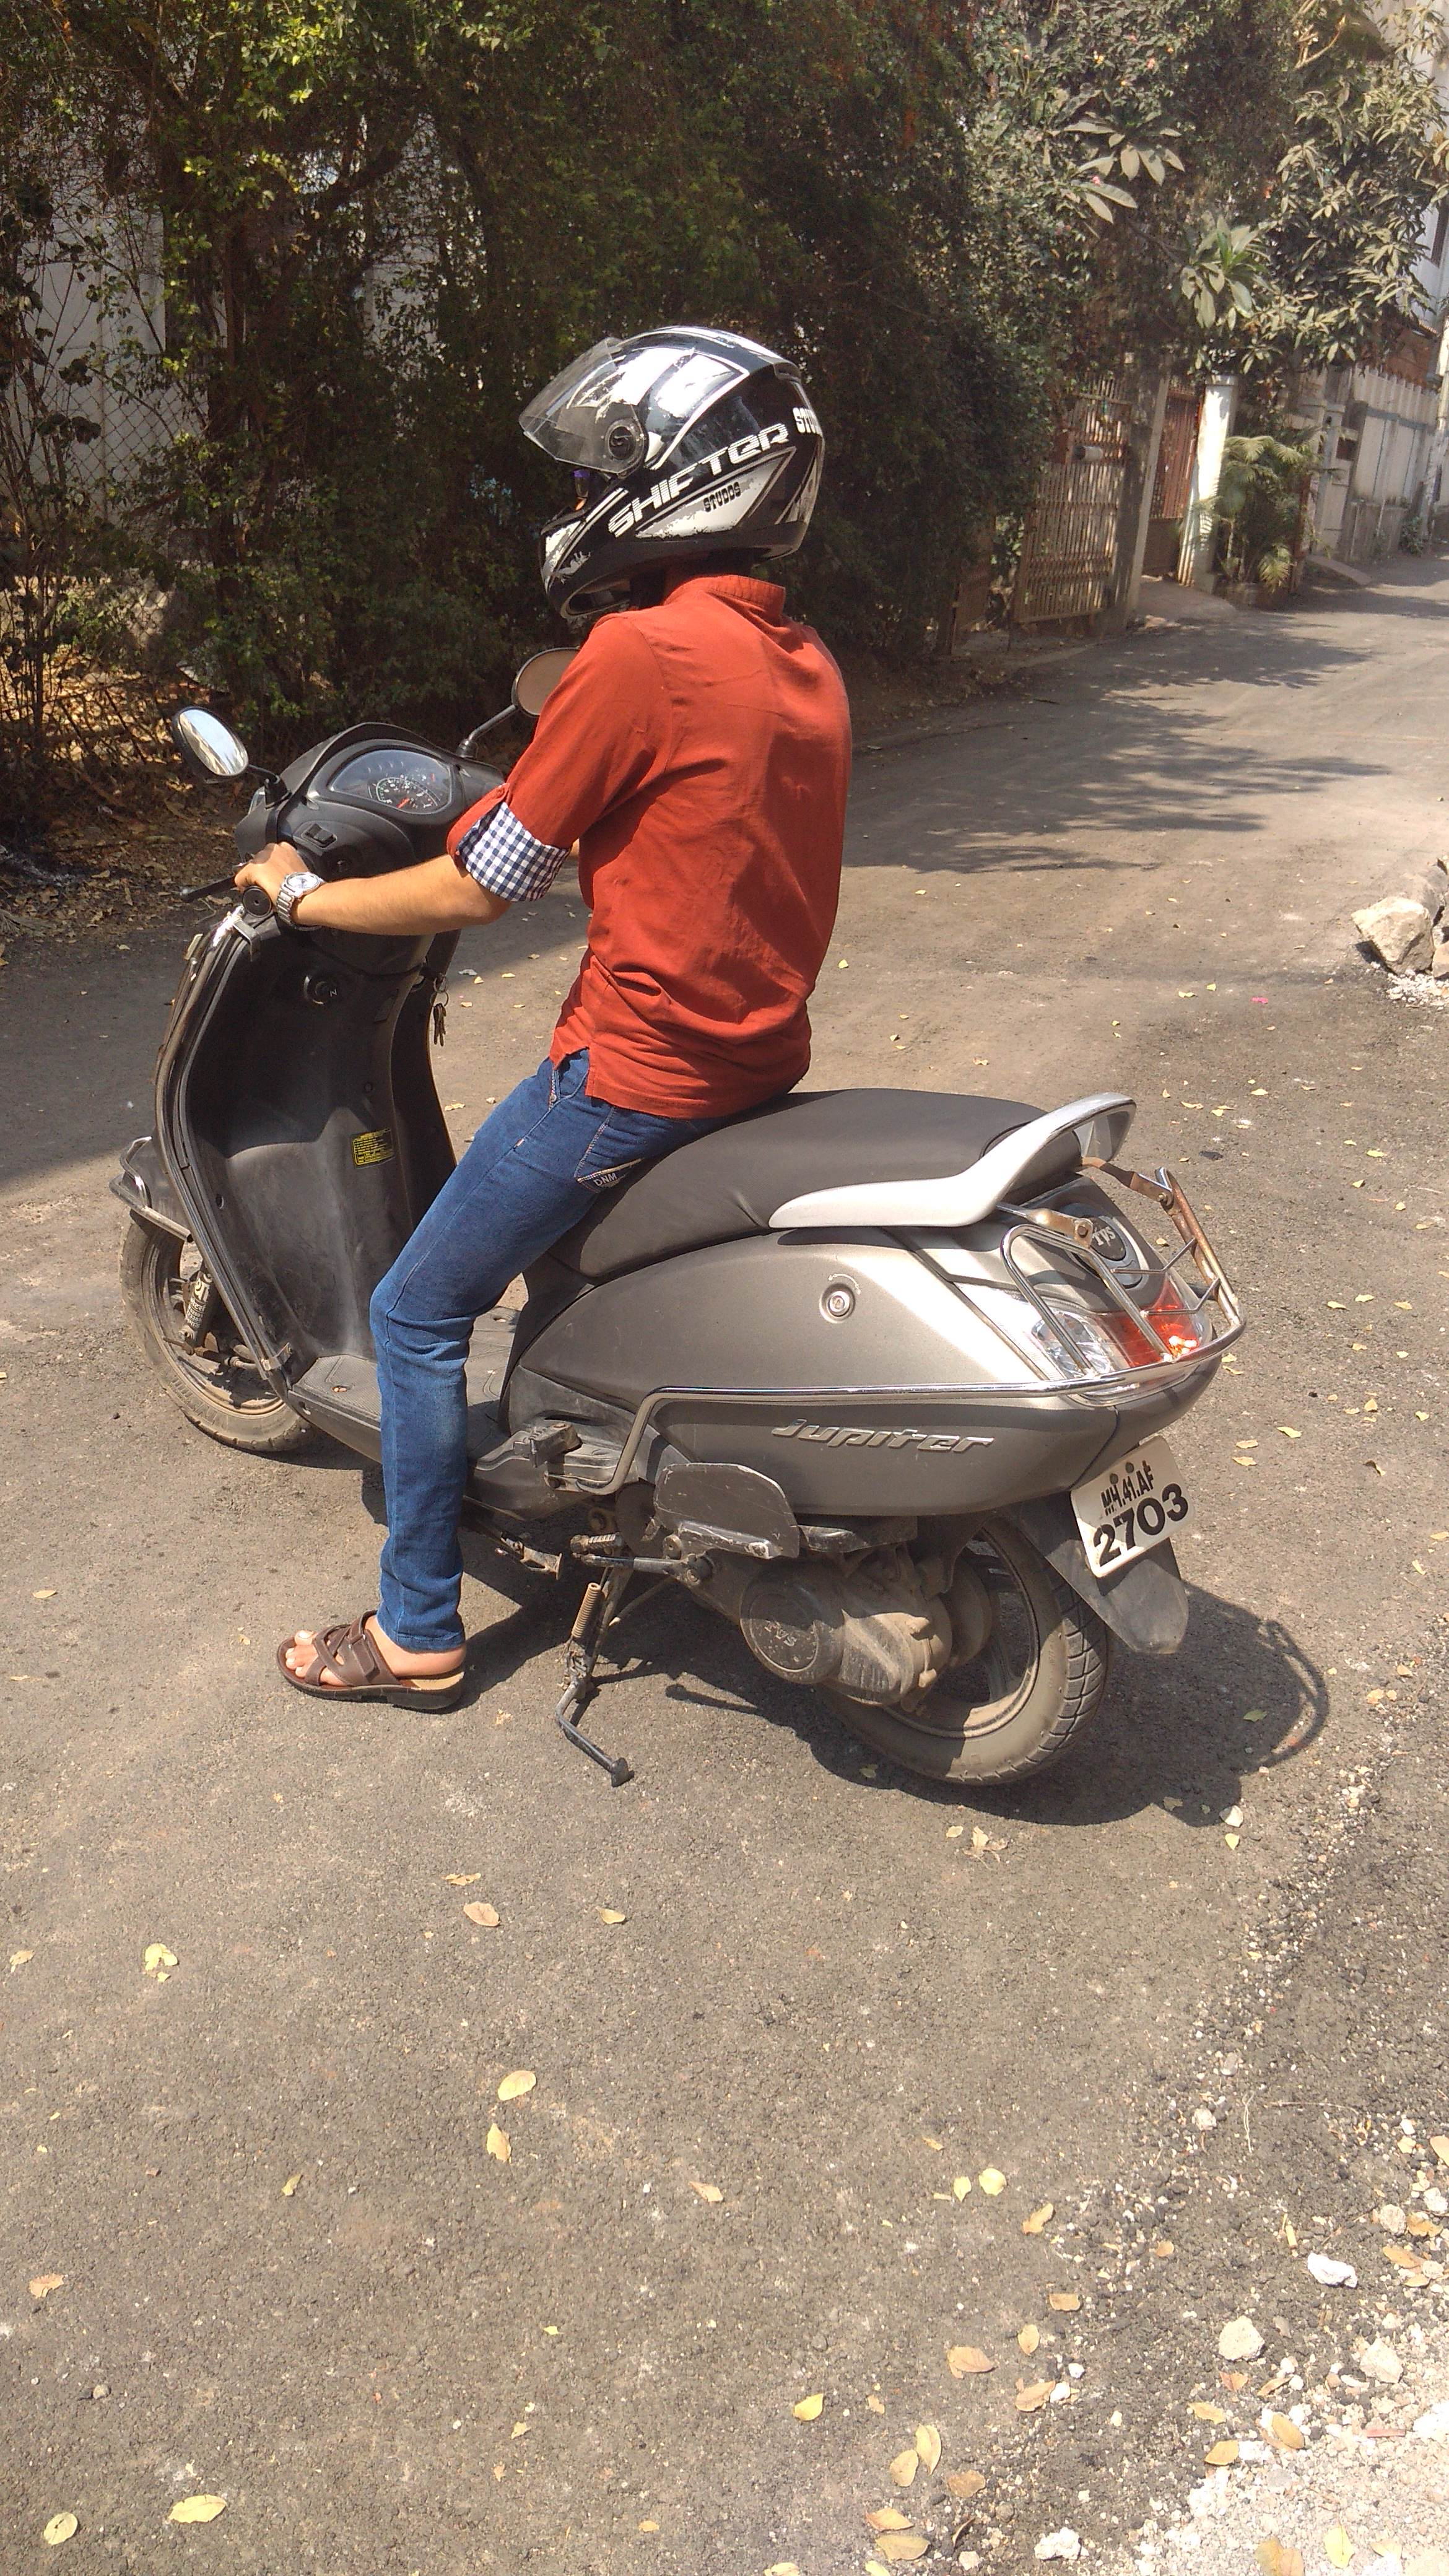helmet: (308, 310, 955, 1755)
